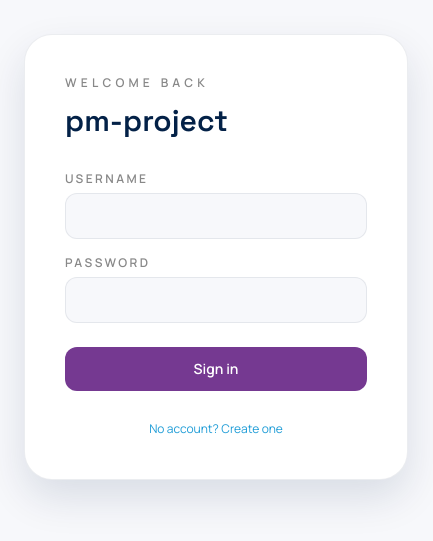
it: LoginPage › shows duplicate error on 409 register response
Click the button "No account? Create one" at (216, 429), box [149,421,283,437]
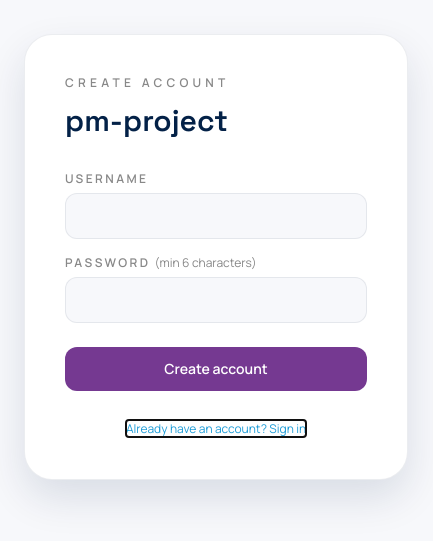
Type "user" into the field labelled "Username" at (216, 216), box [65,193,367,239]
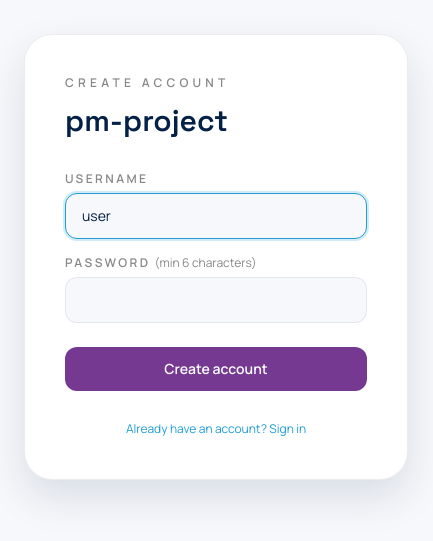
Type "password123" into the password field labelled "Password(min 6 characters)" at (216, 300), box [65,277,367,323]
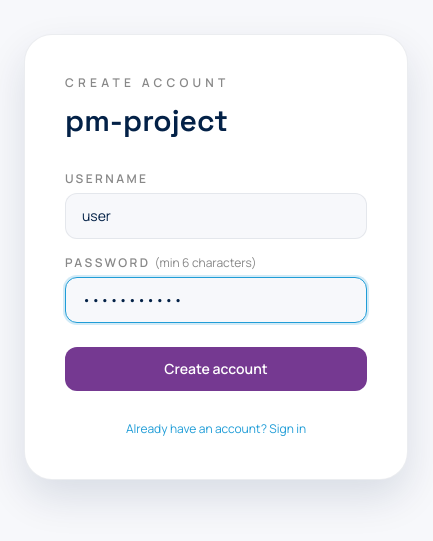
Click the button "Create account" at (216, 369), box [65,347,367,391]
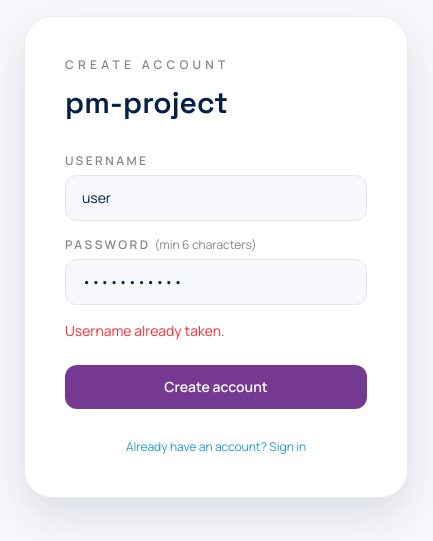
expect the text "Username already taken." is shown: met, box [65,321,225,340]
